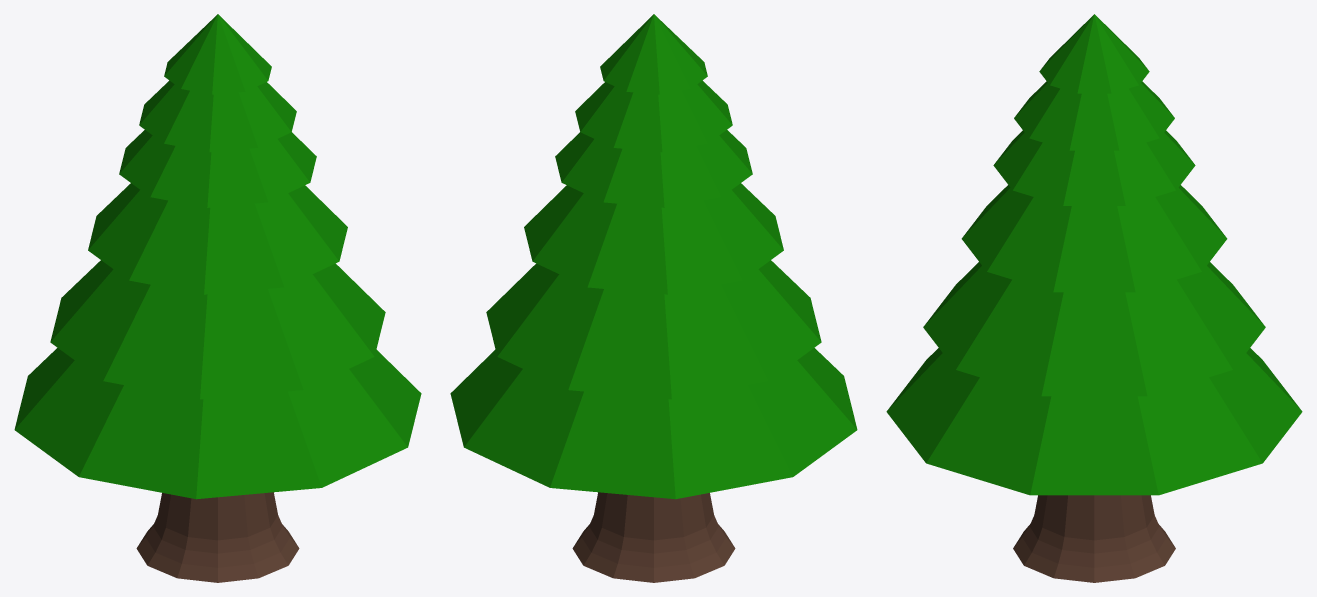
Rendered from Àrvore.fbx.
The picture shows the model from 3 angles, left to right: view 1: azimuth 30°, elevation 25°; view 2: azimuth 150°, elevation 25°; view 3: azimuth 270°, elevation 25°; orthographic projection.
Parts seen in each view (by area): view 1: Cylinder; view 2: Cylinder; view 3: Cylinder.
Boxes of the visible parts, x1=… form: Cylinder: x1=14, y1=14, x2=421, y2=582; Cylinder: x1=450, y1=14, x2=857, y2=582; Cylinder: x1=886, y1=14, x2=1302, y2=582.
Size of the model in its own units: 2.66 by 3.96 by 2.79.
